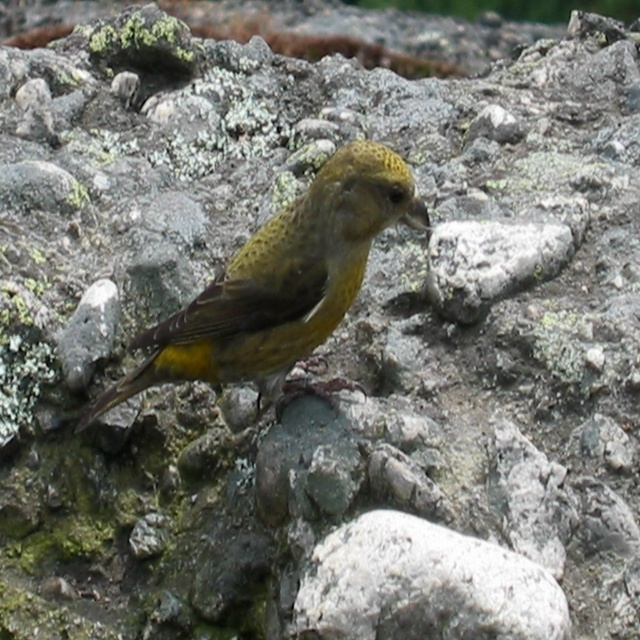Canary: (73, 138, 432, 437)
